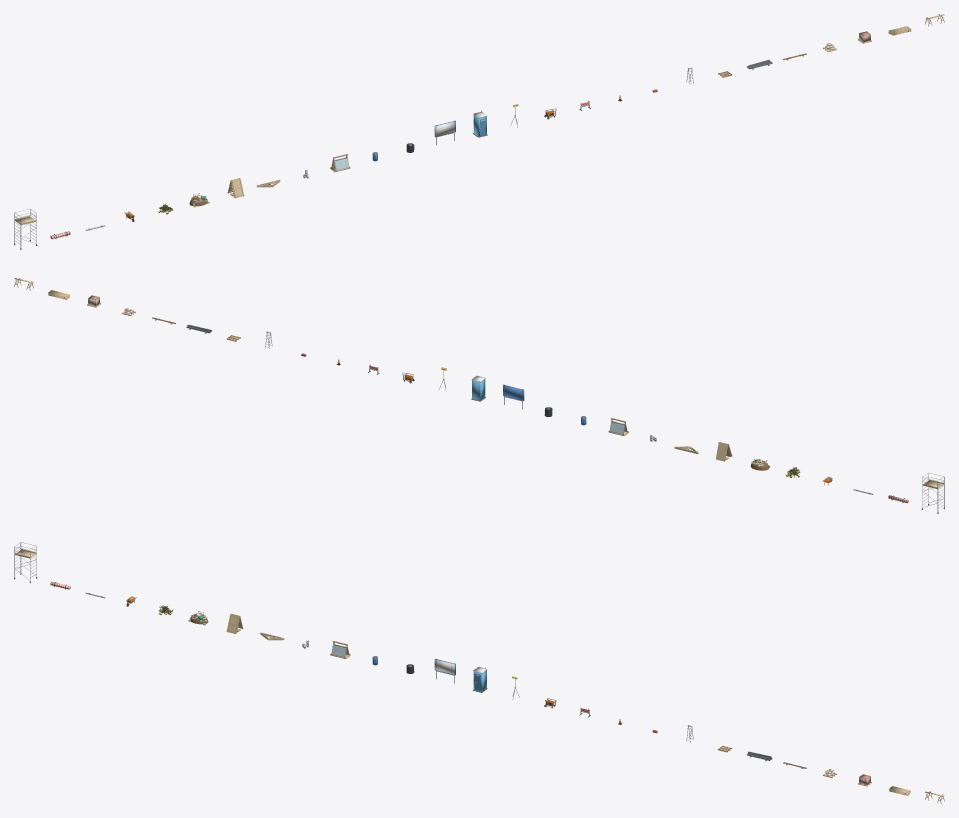
Rendered from Works_Site.fbx.
3 views of the same model, one above another, from view 1: azimuth 30°, elevation 25°; view 2: azimuth 150°, elevation 25°; view 3: azimuth 330°, elevation 25° (orthographic).
Bounding box in the file's own units: 119 × 4.13 × 1.92.
Materials: 1 (1 with a texture image).
